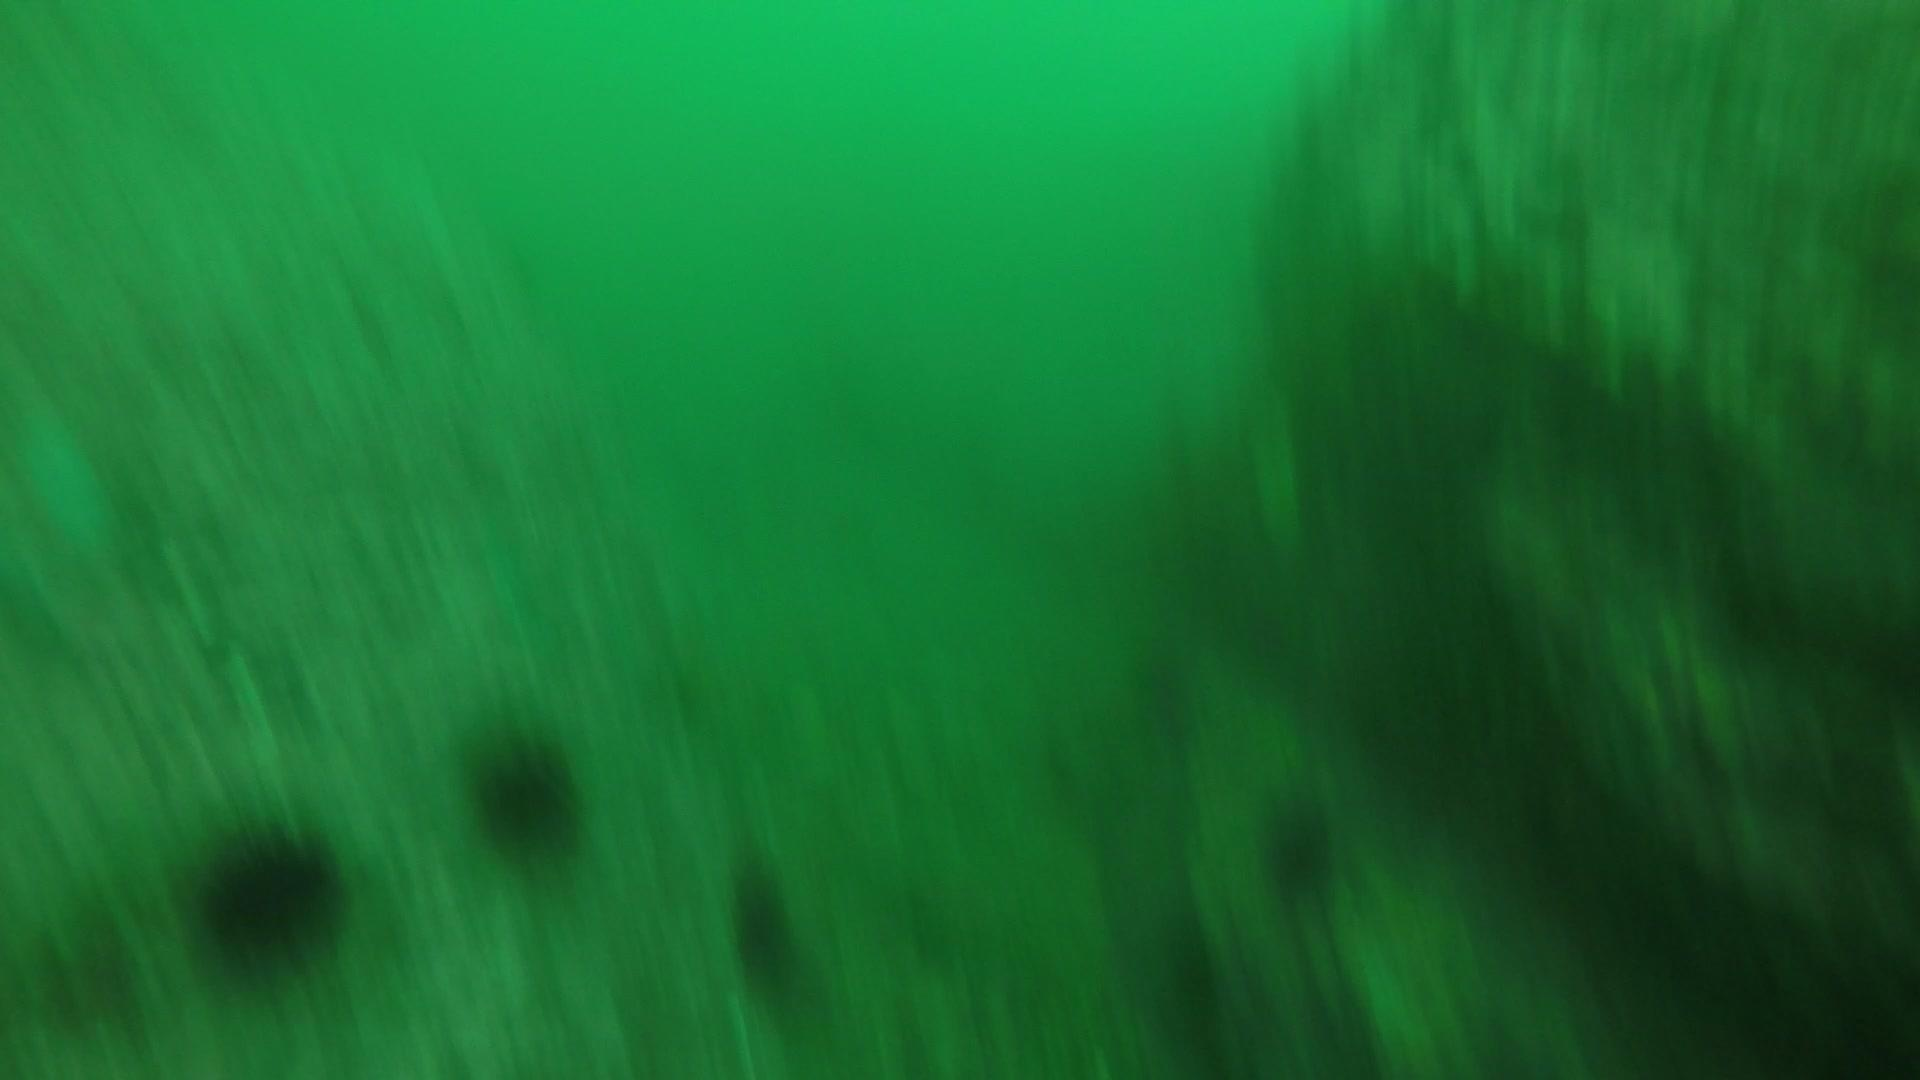echinus: (186, 812, 353, 972), (462, 724, 592, 866), (719, 855, 808, 1000), (1251, 786, 1348, 906)
